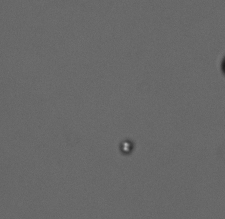Living Cell: (119, 138, 135, 155)
